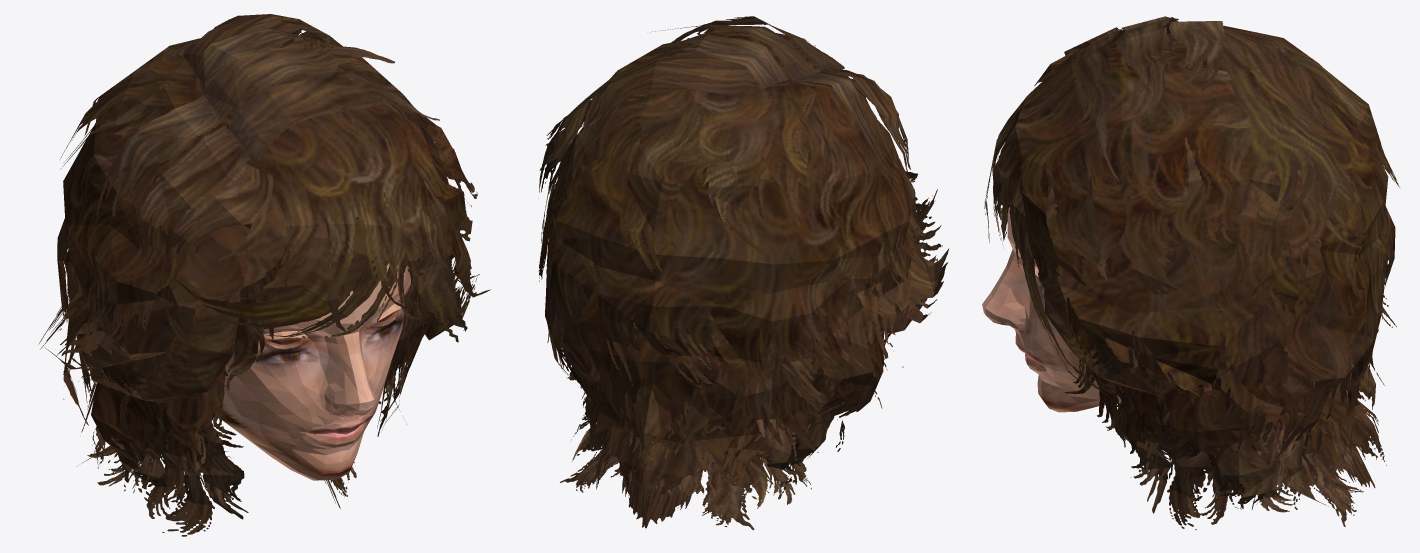
The model's file is head_m_2.fbx.
The picture shows the model from 3 angles, left to right: view 1: azimuth 30°, elevation 25°; view 2: azimuth 150°, elevation 25°; view 3: azimuth 270°, elevation 25°; orthographic projection. The views are drawn at different scales.
Parts seen in each view (by area): view 1: pc_set_fgt_hair_m_it_m_wavebobhair:D_Object_1, polySurface1; view 2: pc_set_fgt_hair_m_it_m_wavebobhair:D_Object_1; view 3: pc_set_fgt_hair_m_it_m_wavebobhair:D_Object_1, polySurface1.
Part boxes in pixels (x1=…): pc_set_fgt_hair_m_it_m_wavebobhair:D_Object_1: x1=38, y1=14, x2=490, y2=536; polySurface1: x1=214, y1=263, x2=410, y2=480; pc_set_fgt_hair_m_it_m_wavebobhair:D_Object_1: x1=538, y1=16, x2=948, y2=530; pc_set_fgt_hair_m_it_m_wavebobhair:D_Object_1: x1=984, y1=16, x2=1400, y2=529; polySurface1: x1=982, y1=207, x2=1121, y2=412.
Size of the model in its own units: 27.35 by 28.09 by 22.94.
Materials: 2 (2 with a texture image).
